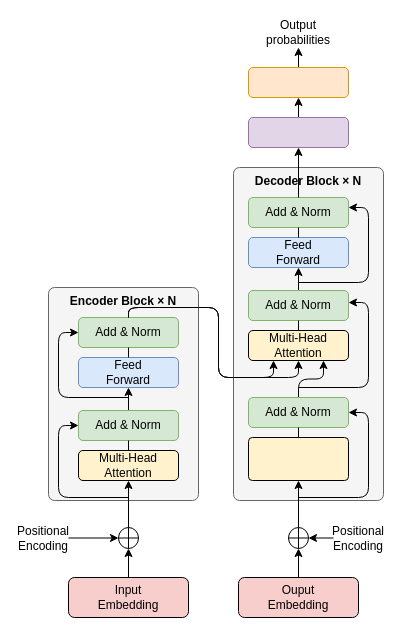
Some shapes in this 401 by 635 pixel diagram are drawn without their labels. Each missing label, with the centre of its shape:
"Linear" goes at point 298,132.
"Masked Multi-Head Attention" goes at point 298,458.
"Softmax" goes at point 298,82.
